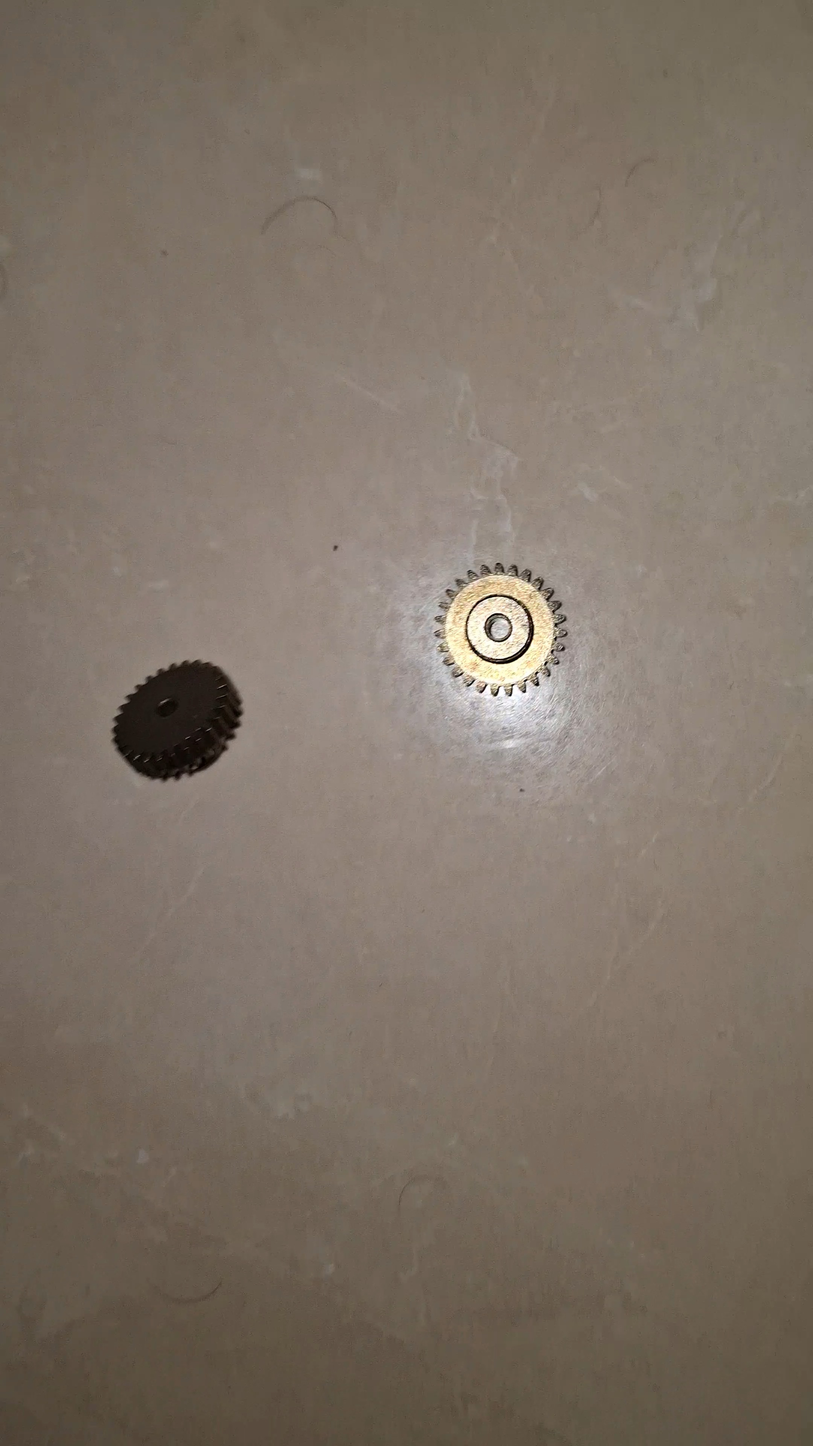spur gear: (435, 563, 566, 694), (113, 660, 241, 779)
